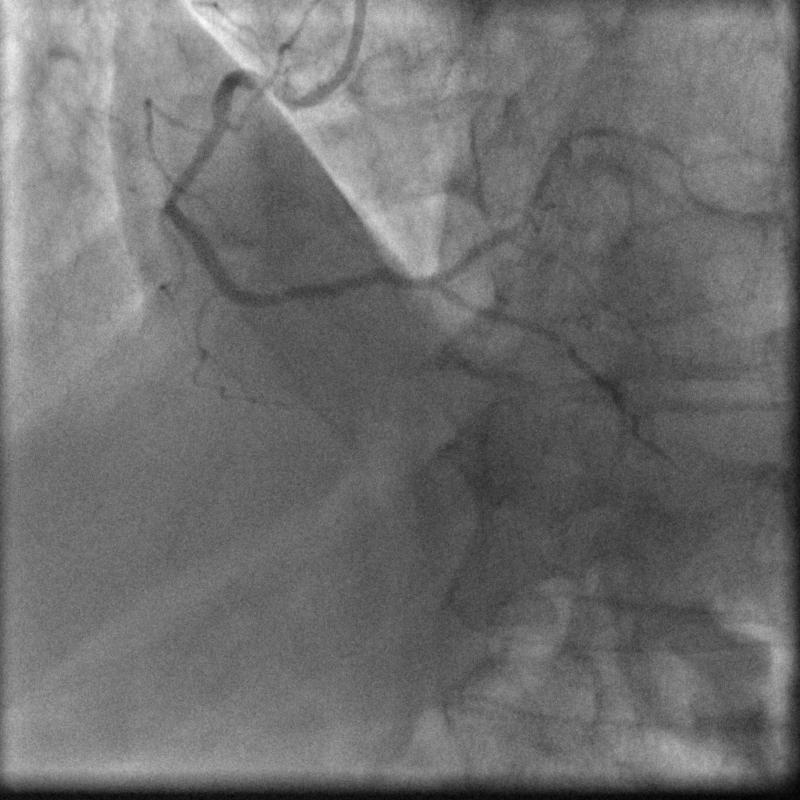Stenosis: (164, 183, 187, 203)
